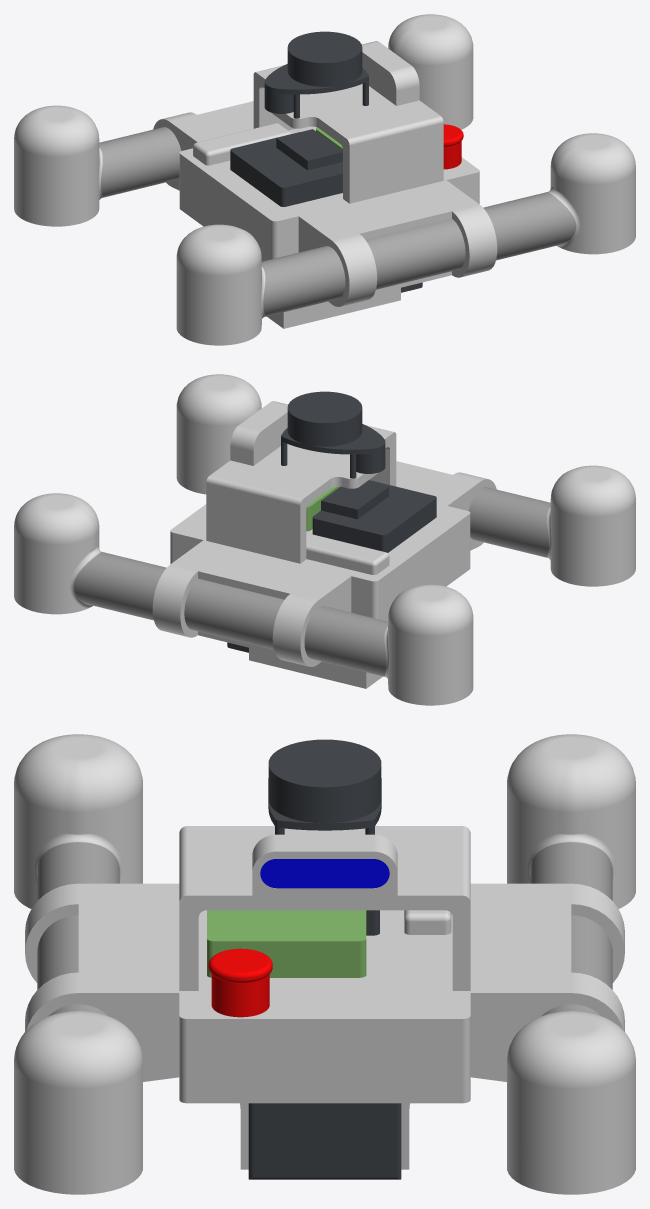
Rendered from chassis.dae.
3 renders of one model, top to bottom at view 1: azimuth 30°, elevation 25°; view 2: azimuth 150°, elevation 25°; view 3: azimuth 270°, elevation 25°, orthographic. The views are drawn at different scales.
Visible parts, largest first — view 1: ID2; view 2: ID2; view 3: ID2.
Part boxes in pixels (x1,y1,x2,y2): ID2: (14, 14, 635, 345); ID2: (14, 374, 635, 705); ID2: (14, 734, 635, 1194).
Bounding box in the file's own units: 0.4848 × 0.3845 × 0.2528.
